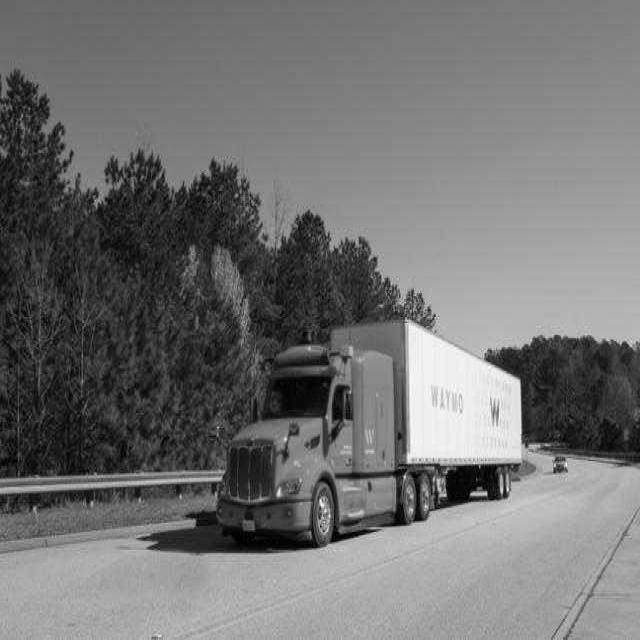Truck: (218, 321, 522, 546)
